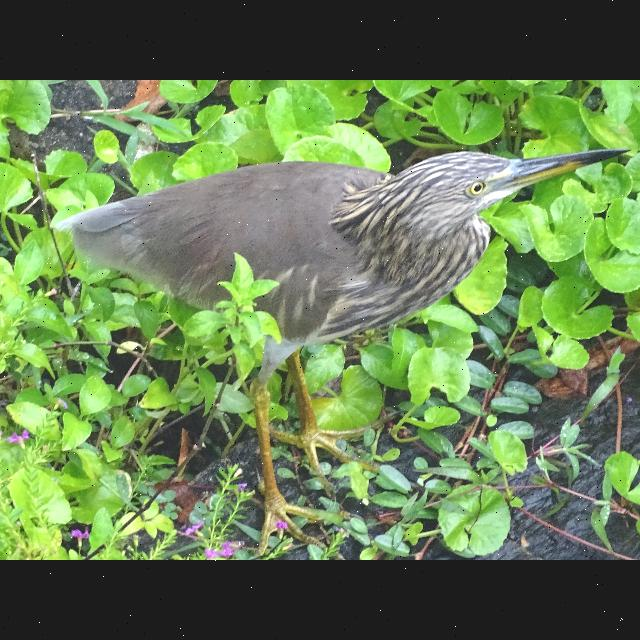heron: (47, 141, 628, 539)
